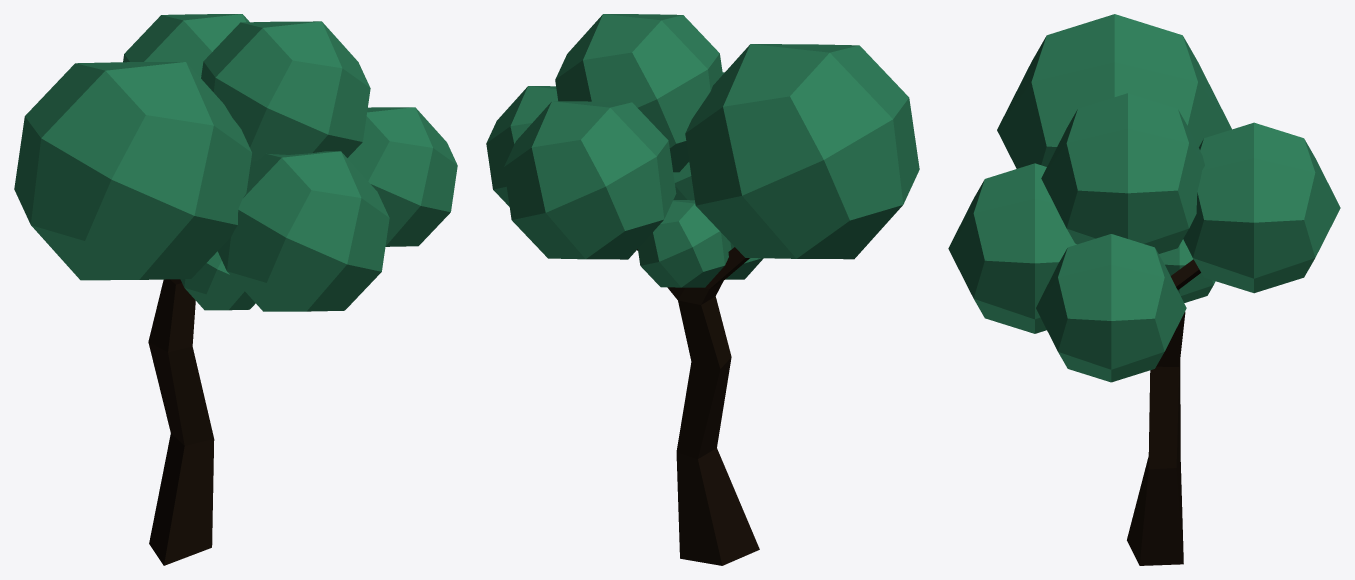
File: tree 3.FBX
3 views of the same model, side by side, from view 1: azimuth 30°, elevation 25°; view 2: azimuth 150°, elevation 25°; view 3: azimuth 270°, elevation 25° (orthographic). The views are drawn at different scales.
Parts seen in each view (by area): view 1: Box004, Box007, Box006, Box002, Box003, Box005, Box008; view 2: Box004, Box005, Box006, Box002, Box009, Box003, Box007; view 3: Box005, Box006, Box004, Box003, Box007, Box002, Box009.
Part boxes in pixels (x1,y1,x2,y2): Box004: (14, 62, 251, 280); Box007: (217, 151, 389, 311); Box006: (201, 21, 370, 161); Box002: (148, 279, 214, 565); Box003: (347, 107, 457, 246); Box005: (123, 14, 249, 77); Box008: (180, 251, 255, 310); Box004: (685, 44, 919, 259); Box005: (504, 101, 676, 259); Box006: (555, 14, 722, 172); Box002: (637, 247, 759, 565); Box009: (638, 200, 731, 287); Box003: (486, 86, 557, 206); Box007: (673, 72, 724, 200); Box005: (1183, 122, 1340, 293); Box006: (1041, 93, 1204, 253); Box004: (997, 14, 1231, 168); Box003: (1036, 234, 1186, 382); Box007: (948, 163, 1076, 333); Box002: (1127, 259, 1200, 565); Box009: (1159, 239, 1215, 302).
Bounding box in the file's own units: 71.95 × 85.52 × 61.35.
